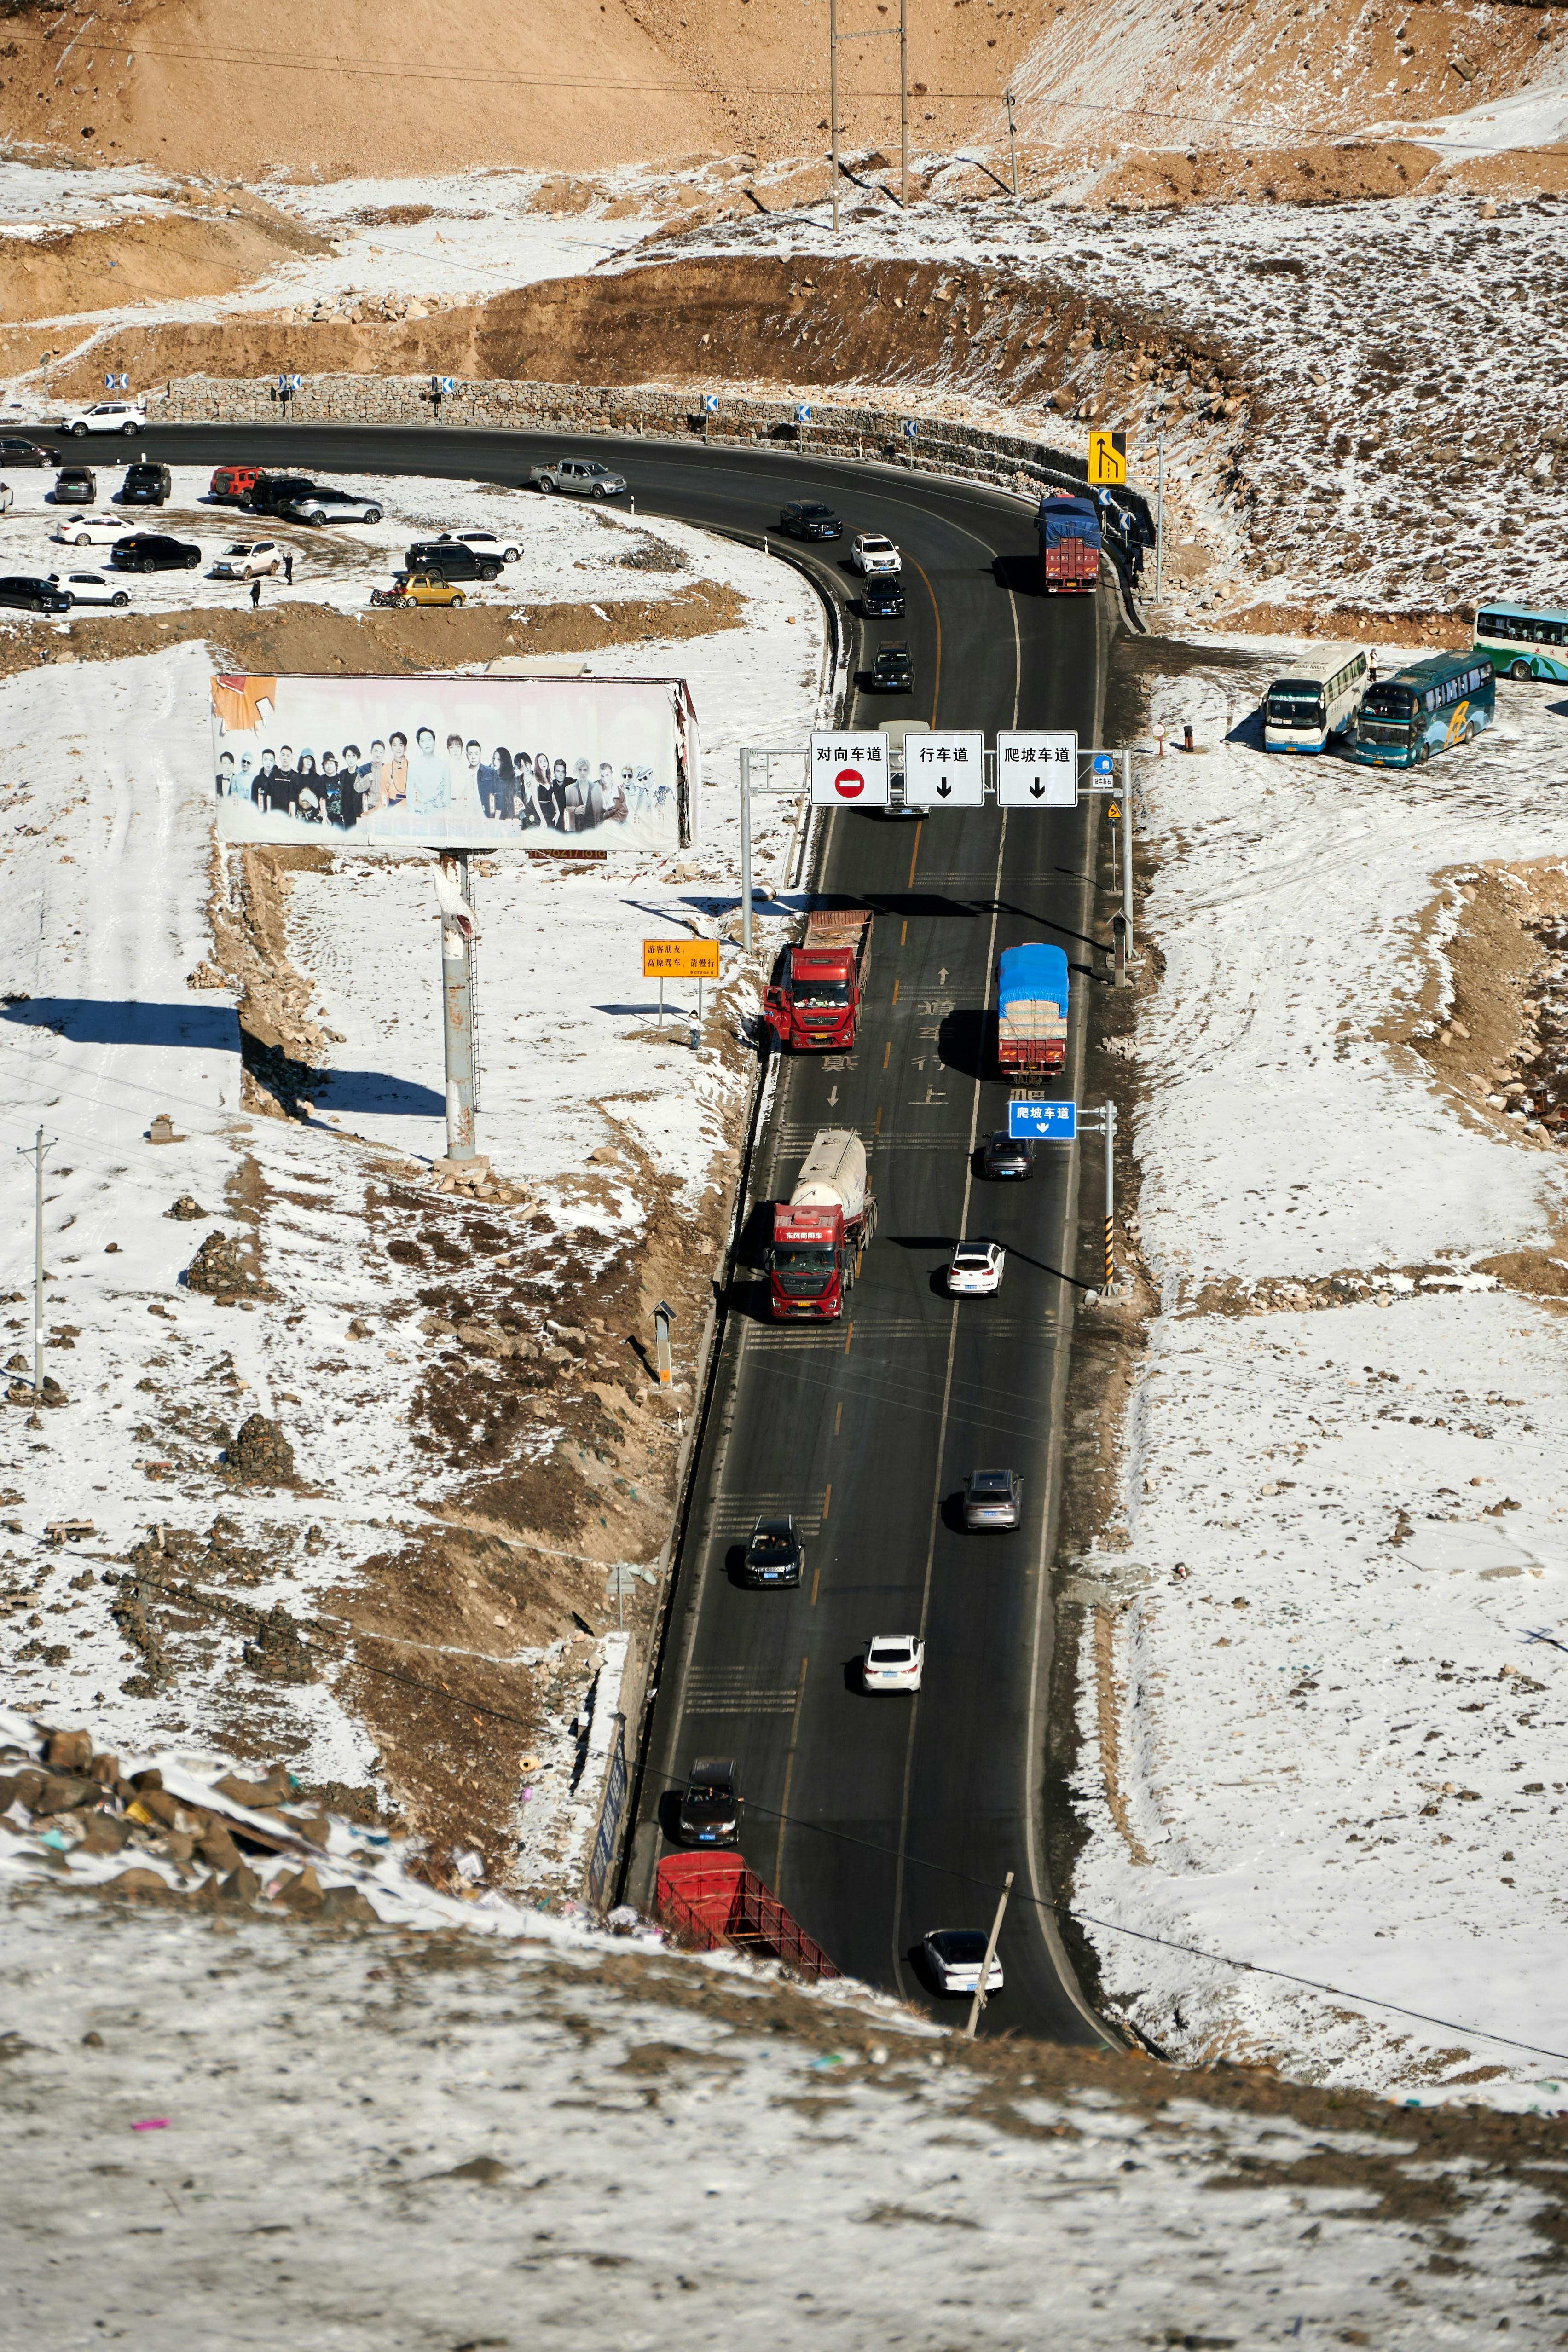Trucks: (654, 1851, 838, 1981), (768, 1129, 875, 1319), (1351, 651, 1494, 766), (765, 908, 873, 1052), (1264, 647, 1370, 752), (997, 943, 1068, 1074), (1475, 602, 1568, 683), (1038, 493, 1101, 593)
